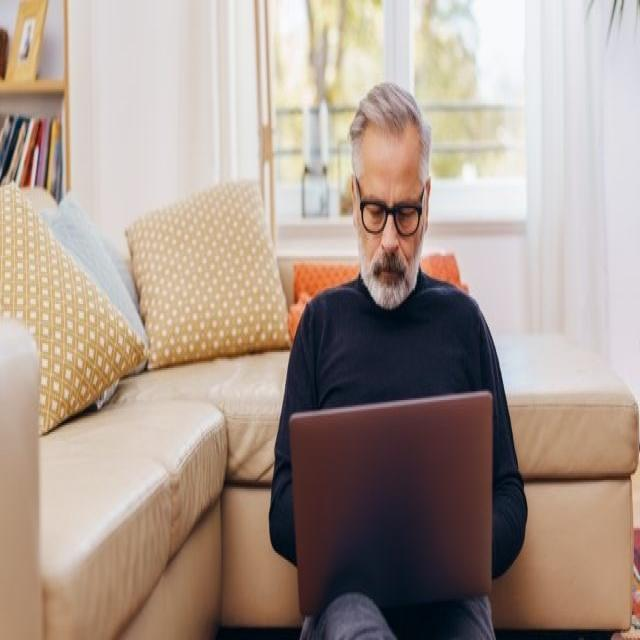sitting: (267, 73, 529, 640)
